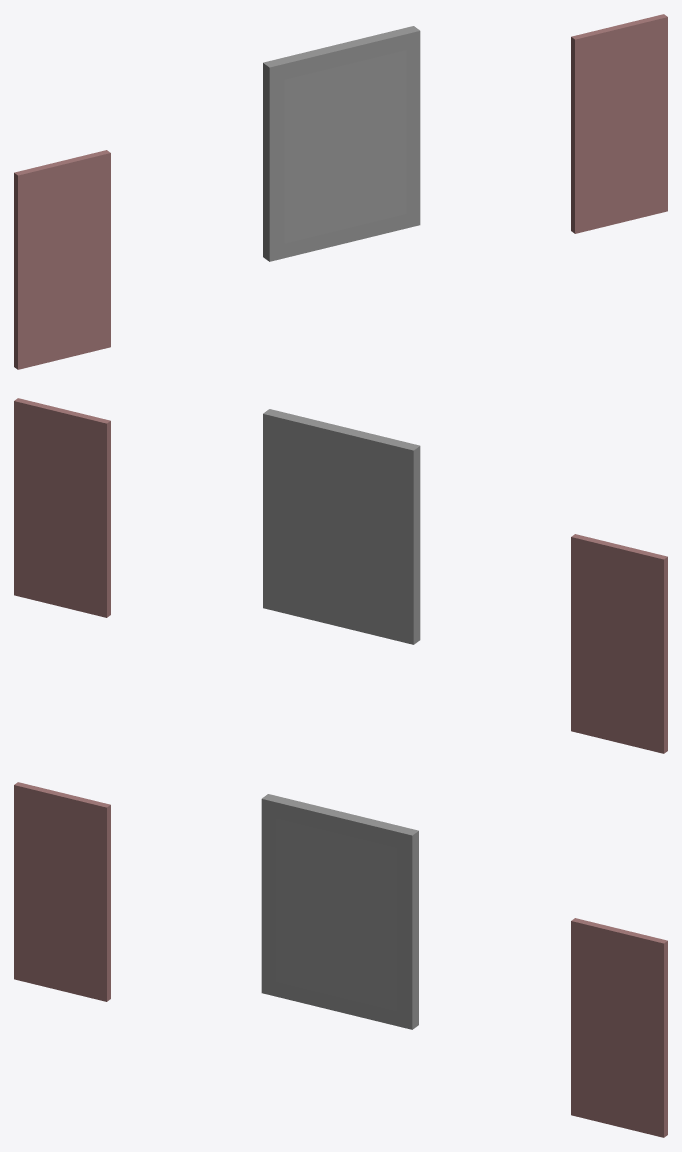
The model's file is gable_stepped_trim.glb.
3 renders of one model, top to bottom at view 1: azimuth 30°, elevation 25°; view 2: azimuth 150°, elevation 25°; view 3: azimuth 330°, elevation 25°, orthographic.
Parts seen in each view (by area): view 1: gable_stepped_trim; view 2: gable_stepped_trim; view 3: gable_stepped_trim.
Part boxes in pixels (x1=…): gable_stepped_trim: x1=14, y1=14, x2=667, y2=369; gable_stepped_trim: x1=14, y1=398, x2=667, y2=753; gable_stepped_trim: x1=14, y1=782, x2=667, y2=1137.
Bounding box in the file's own units: 5.6 × 2 × 0.11.
